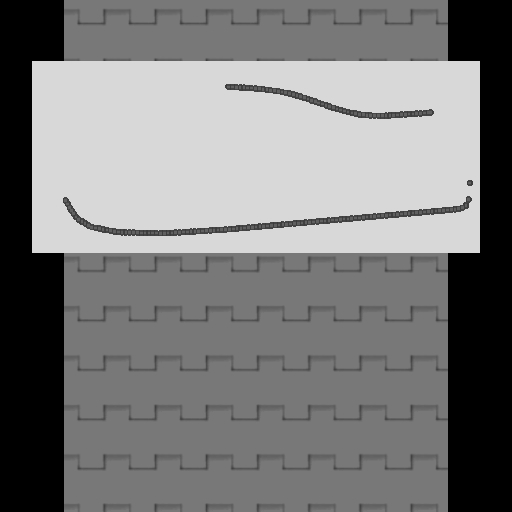Defect: (58, 77, 224, 201)
